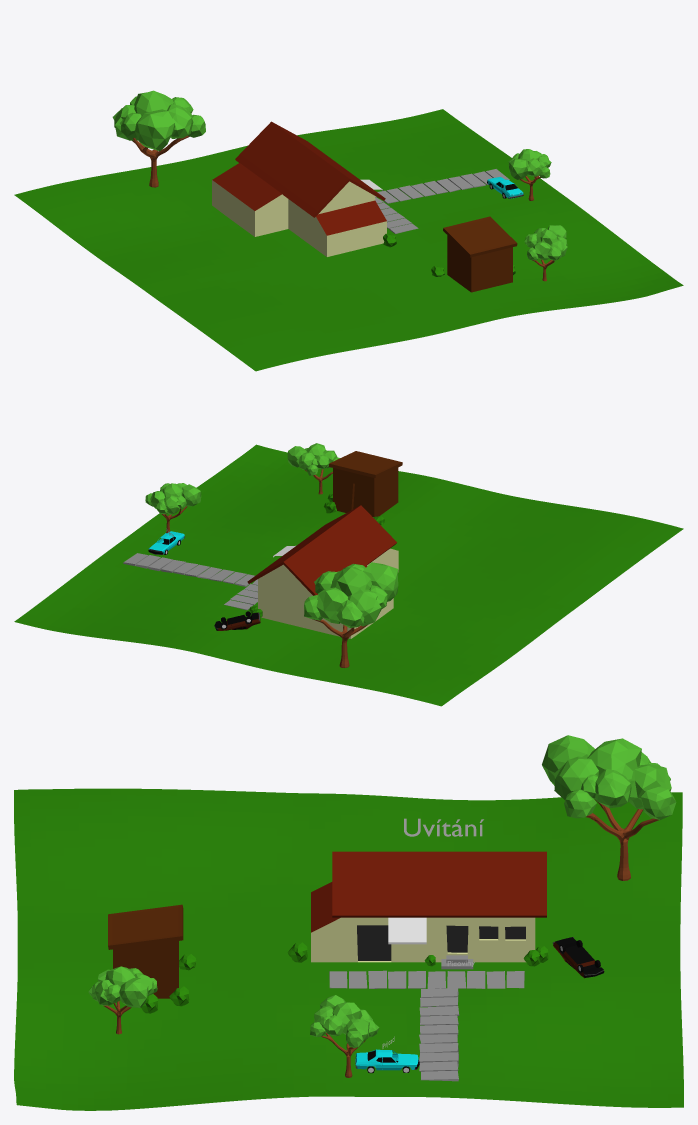
The model's file is hajovna.gltf.
3 views of the same model, one above another, from view 1: azimuth 30°, elevation 25°; view 2: azimuth 150°, elevation 25°; view 3: azimuth 270°, elevation 25° (orthographic). The views are drawn at different scales.
Parts seen in each view (by area): view 1: Plane.001, Roof, Cube, Tree, Cube.005, Cube.007, Cube.002, Tree.001, Tree.002, Cube.006; view 2: Plane.001, Roof, Tree, Cube.005, Cube, Cube.007, Tree.002, Tree.001, Cube_0.001, Cube.006, Cube_0; view 3: Plane.001, Roof, Tree, Cube, Cube.005, Cube.007, Cube.006, Tree.002, Cube.001, Tree.001, Cube_0, Cube_0.001 (+3 smaller).
Part boxes in pixels (x1,y1,x2,y2): Plane.001: (14, 109, 683, 371); Roof: (212, 121, 385, 217); Cube: (212, 180, 386, 256); Tree: (112, 90, 205, 187); Cube.005: (443, 216, 517, 292); Cube.007: (377, 169, 509, 203); Cube.002: (316, 200, 386, 235); Tree.001: (524, 225, 567, 281); Tree.002: (508, 149, 551, 200); Cube.006: (375, 196, 418, 233); Plane.001: (14, 444, 683, 706); Roof: (247, 505, 396, 595); Tree: (304, 562, 398, 667); Cube.005: (328, 451, 402, 516); Cube: (258, 548, 398, 638); Cube.007: (123, 553, 254, 586); Tree.002: (145, 483, 201, 533); Tree.001: (287, 443, 340, 494); Cube_0.001: (214, 611, 260, 630); Cube.006: (224, 579, 257, 610); Cube_0: (148, 531, 184, 554); Plane.001: (14, 788, 683, 1110); Roof: (332, 851, 546, 917); Tree: (542, 735, 676, 880); Cube: (311, 917, 535, 962); Cube.005: (108, 904, 183, 998); Cube.007: (419, 988, 459, 1081); Cube.006: (329, 970, 524, 988); Tree.002: (310, 995, 379, 1077); Cube.001: (357, 925, 525, 960); Tree.001: (88, 966, 157, 1034); Cube_0: (355, 1049, 419, 1073); Cube_0.001: (553, 937, 604, 978).
Size of the model in its own units: 35.93 by 13.59 by 35.02.
Materials: 15 (1 with a texture image).
